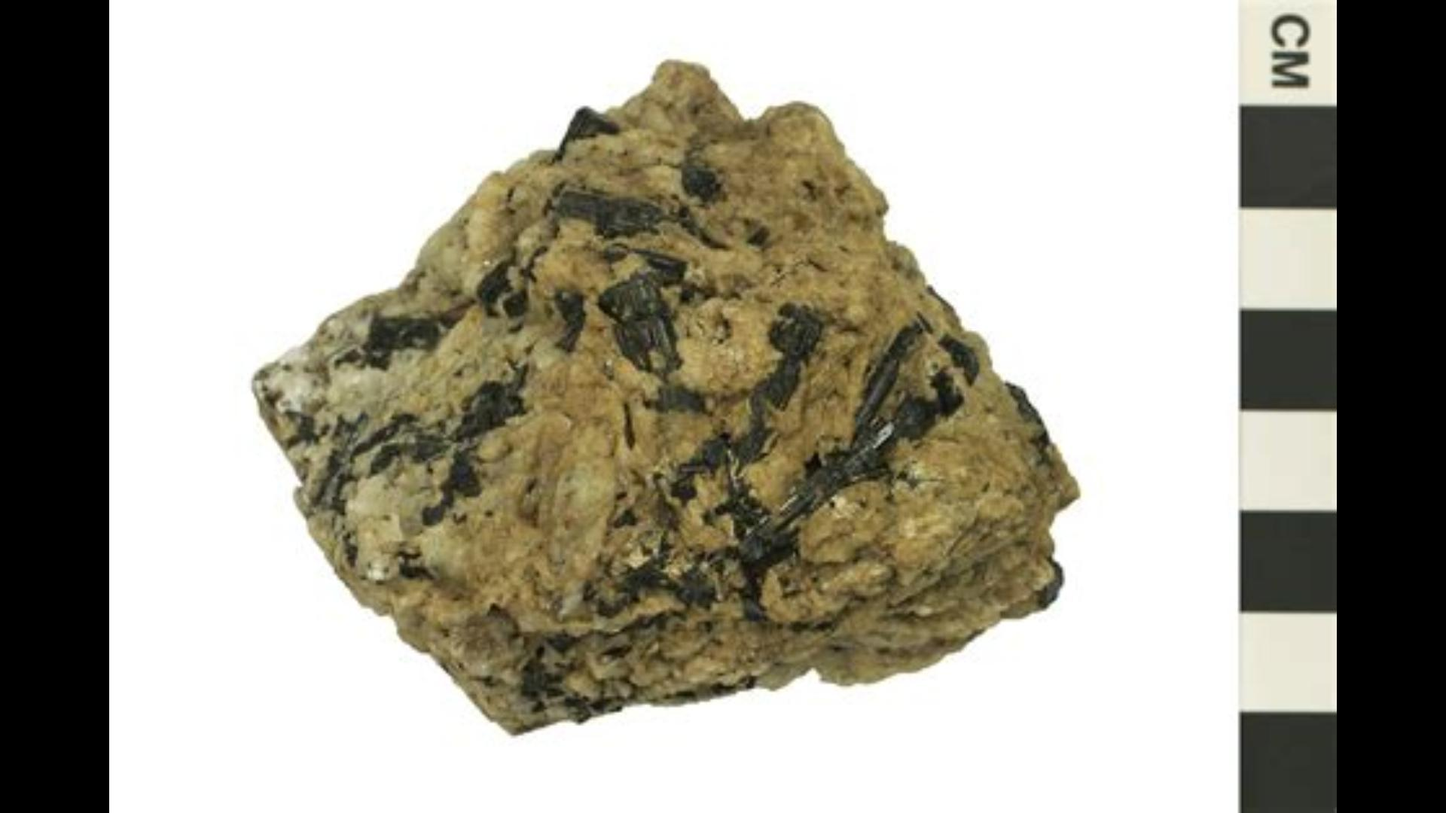rock: (254, 65, 1075, 733)
